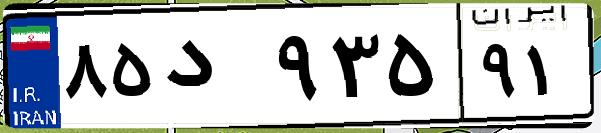1: (525, 38, 570, 115)
3: (330, 28, 385, 110)
5: (385, 28, 445, 110), (110, 28, 158, 98)
8: (57, 26, 110, 100)
9: (270, 28, 330, 110), (475, 38, 525, 113)
د: (158, 20, 270, 120)
